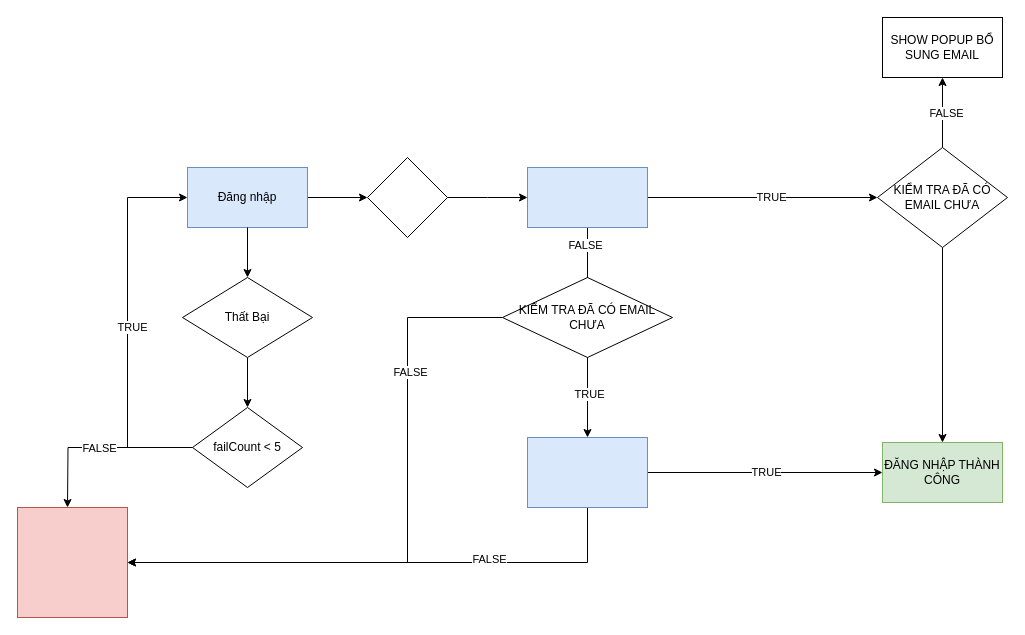
The diagram is 1025 pixels wide and 635 high, and some of its shapes have lost their labels. Each missing label, with the box of its shape:
KHÔNG ĐĂNG NHẬP ĐƯỢC: (16, 506, 128, 618)
Nhập OTP 2FA: (526, 166, 648, 228)
Nhập OTP Mail: (526, 436, 648, 508)
Thành Công: (366, 156, 448, 238)
